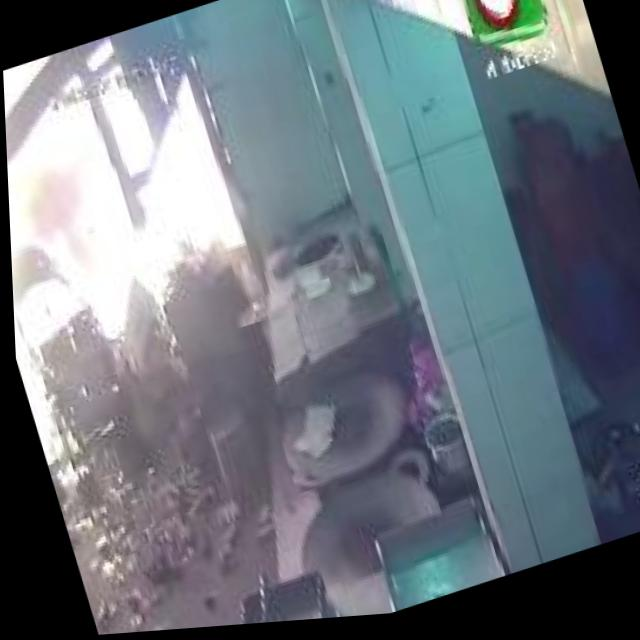fire: (2, 40, 271, 387), (2, 52, 164, 481)
